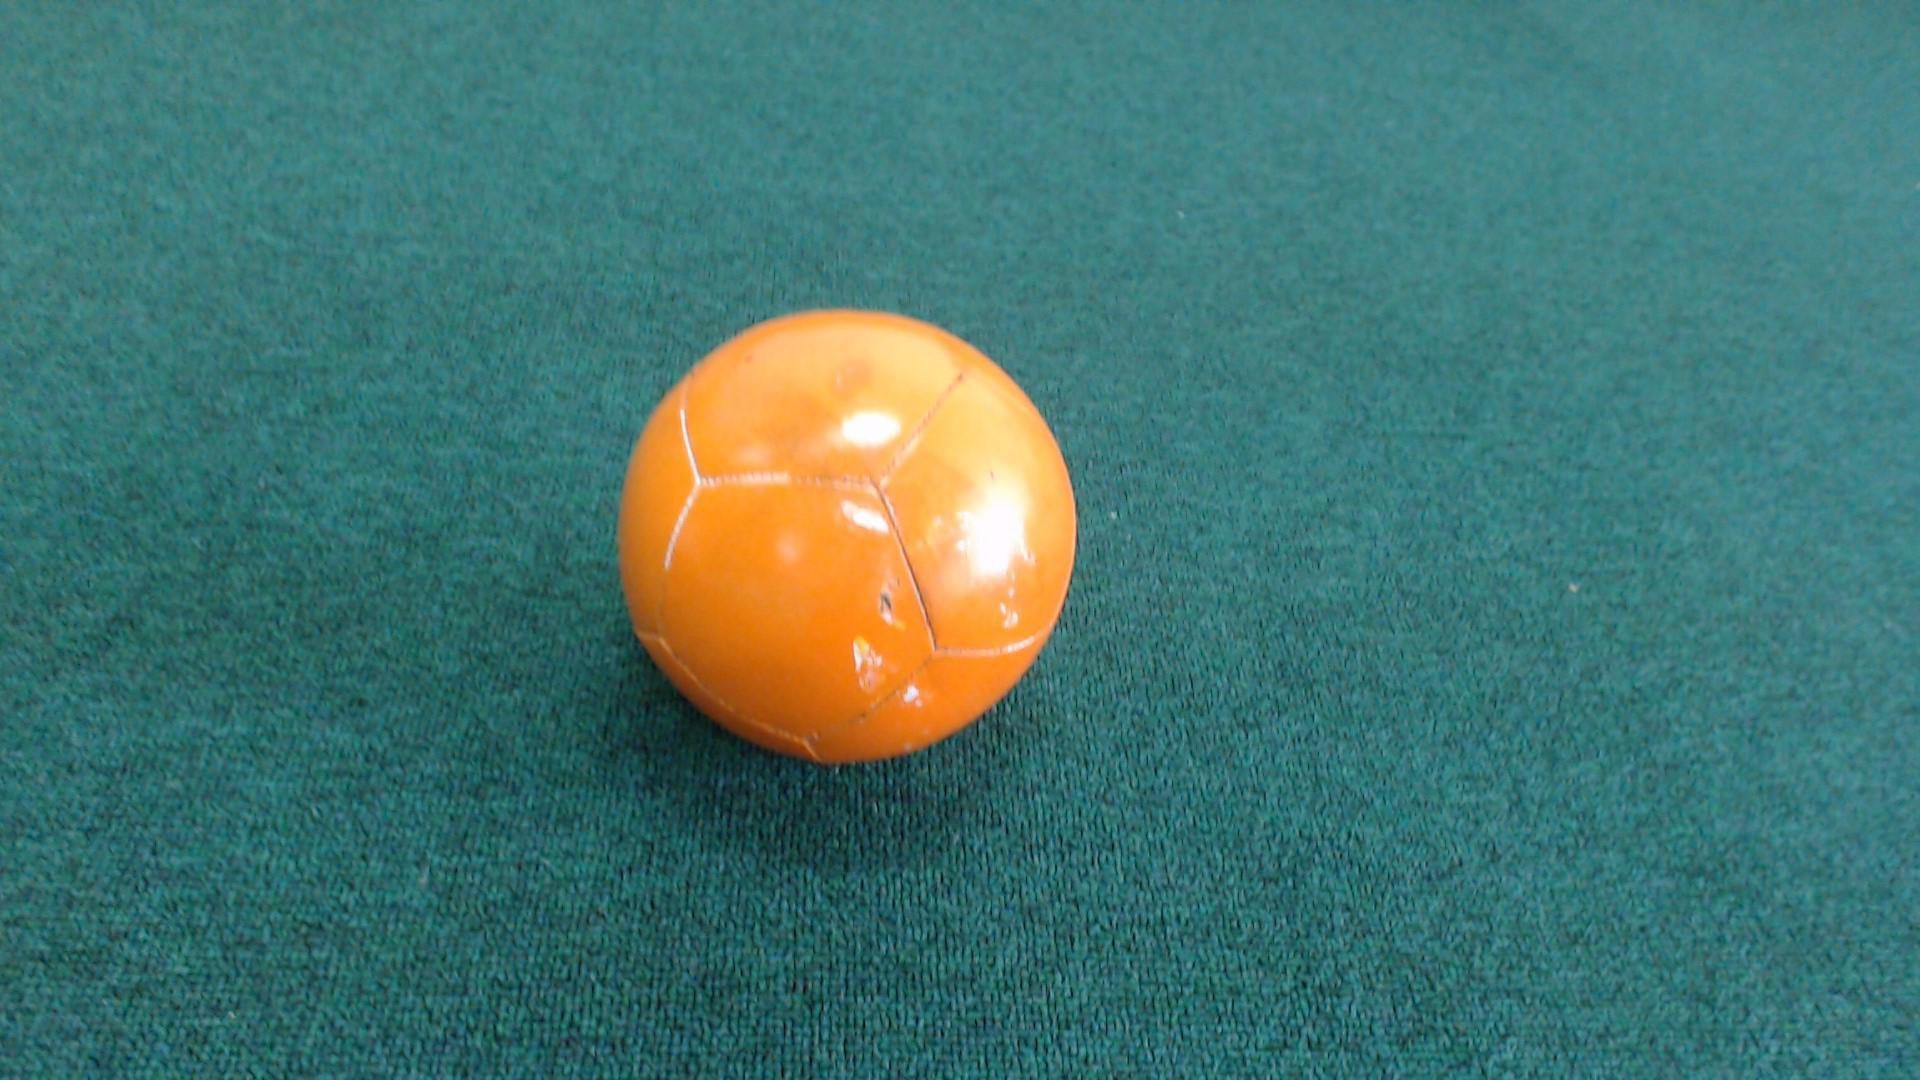bola: (574, 281, 1112, 790)
